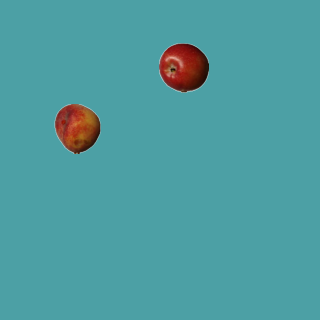Apple Braeburn: (158, 42, 208, 92)
Peach: (52, 103, 102, 153)
